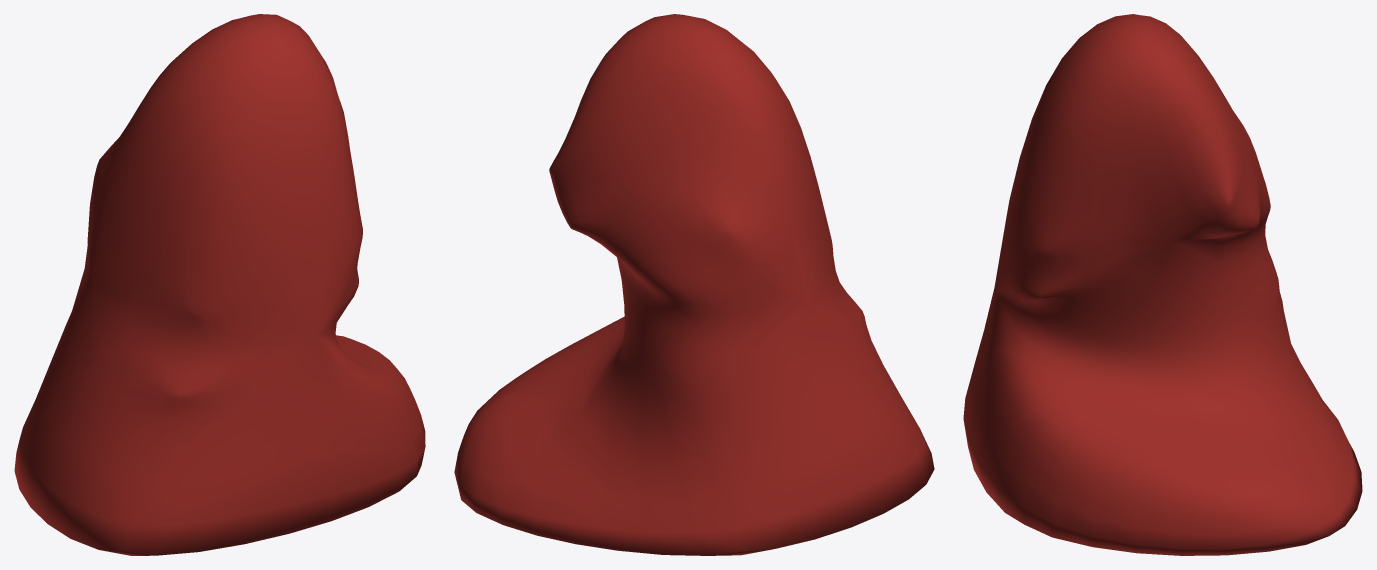
File: Organic_Blob_003.fbx
3 views of the same model, side by side, from view 1: azimuth 30°, elevation 25°; view 2: azimuth 150°, elevation 25°; view 3: azimuth 270°, elevation 25° (orthographic). The views are drawn at different scales.
Visible parts, largest first — view 1: Cube.004; view 2: Cube.004; view 3: Cube.004.
Part boxes in pixels (x1,y1,x2,y2): Cube.004: (14,14,425,555); Cube.004: (454,14,934,555); Cube.004: (963,14,1362,555).
Bounding box in the file's own units: 631 × 700 × 553.
